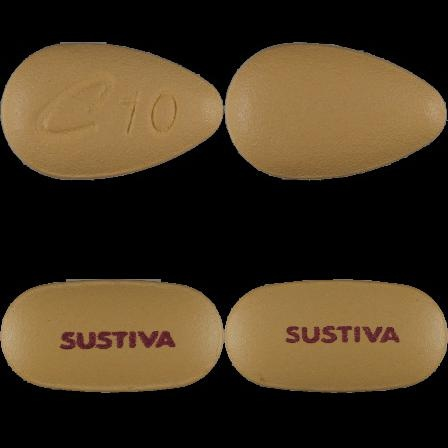54868-4665: (0, 0, 224, 224)
